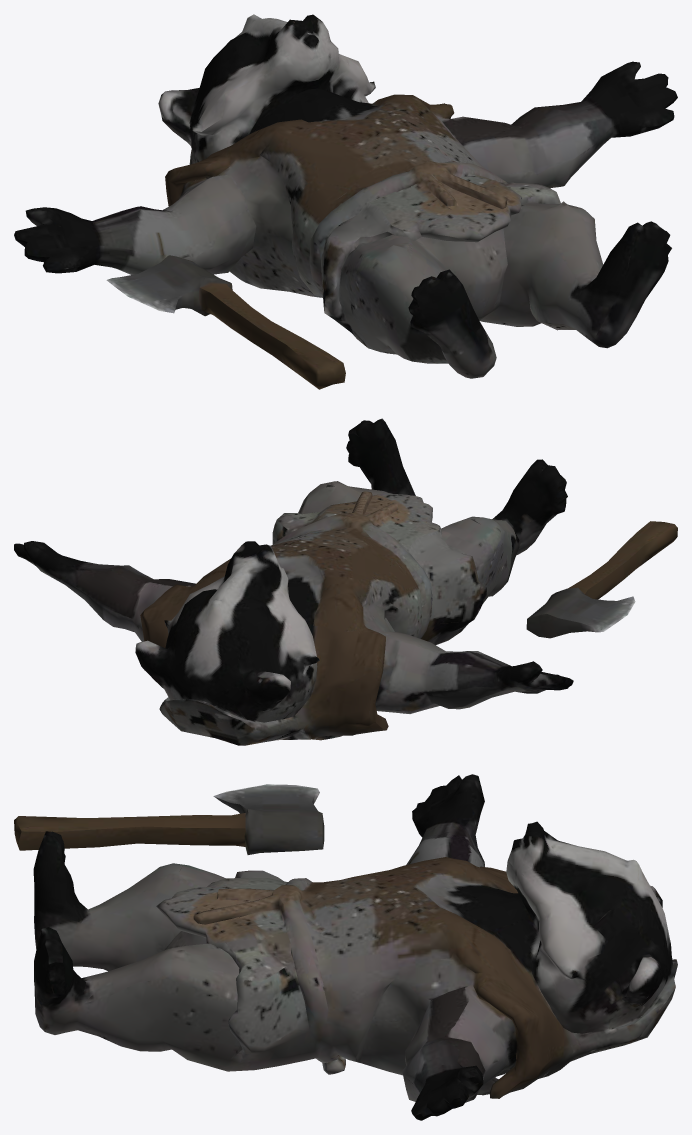
Rendered from wildkin_fallen.glb.
3 renders of one model, top to bottom at view 1: azimuth 30°, elevation 25°; view 2: azimuth 150°, elevation 25°; view 3: azimuth 270°, elevation 25°, orthographic. The views are drawn at different scales.
Visible parts, largest first — view 1: world; view 2: world; view 3: world.
Boxes of the visible parts, x1,y1,x2,y2 form: world: (14, 14, 677, 389); world: (14, 418, 677, 745); world: (14, 774, 677, 1120).
Bounding box in the file's own units: 0.9957 × 0.3351 × 0.868.
1 material, 1 textured.
